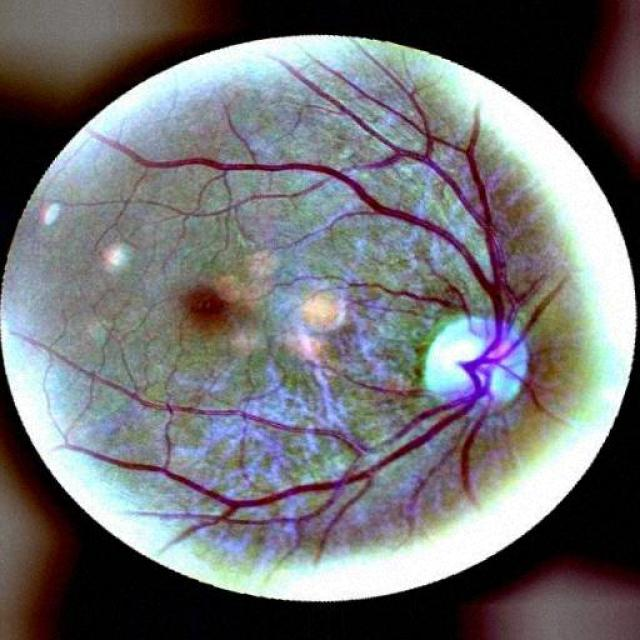Macula: (172, 267, 251, 352)
Nerves: (127, 56, 540, 537)
Optic Disk: (400, 302, 549, 421)
